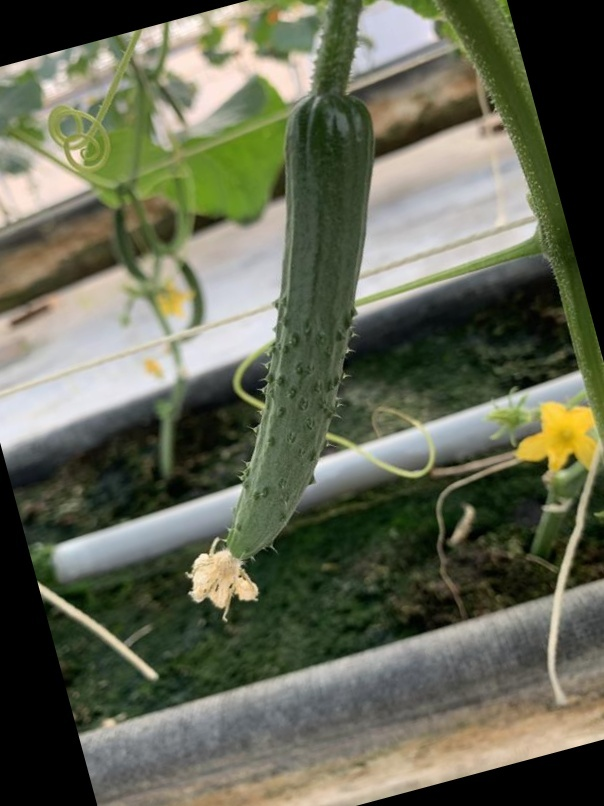growth: (200, 95, 377, 584)
